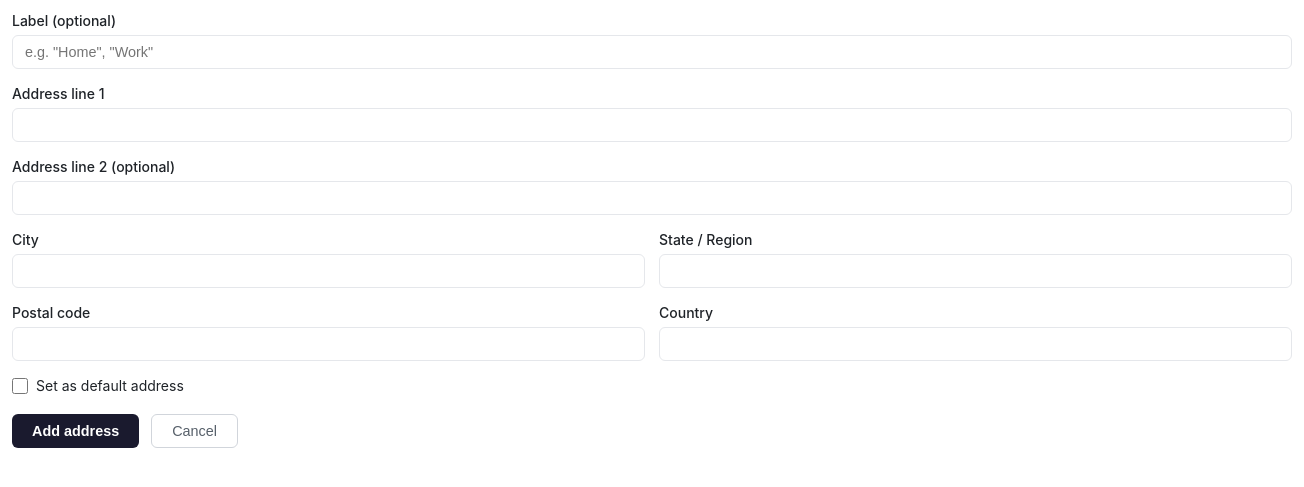
Test: AddressForm validation › shows error when postalCode is too short
The image size is (1304, 487).
In the field labelled "Address line 1": (652, 125) [12, 108, 1292, 142], type "123 Main St"
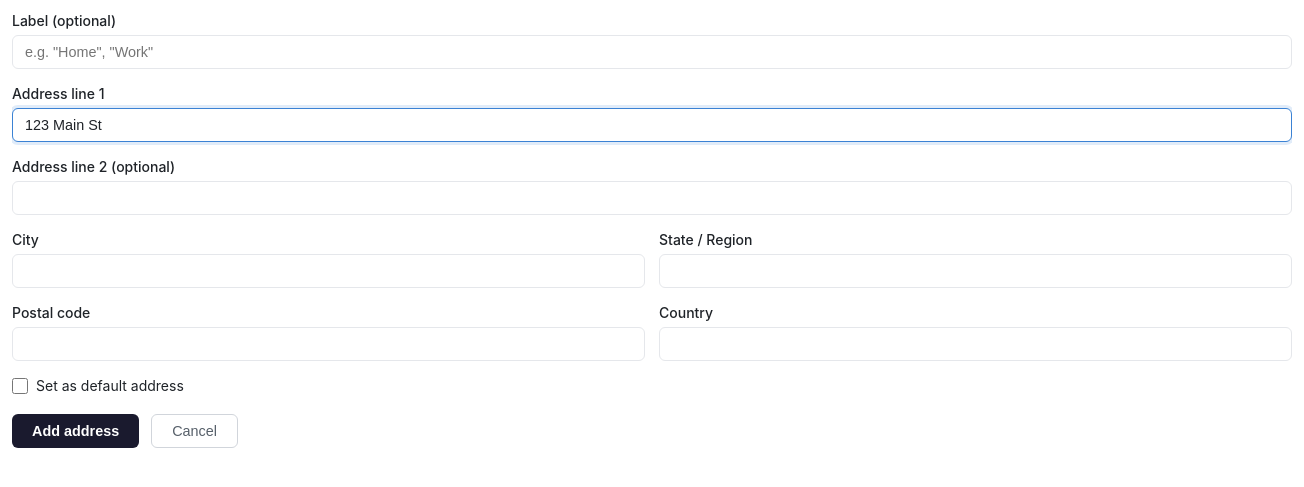
In the field labelled "City": (328, 271) [12, 254, 645, 288], type "Springfield"
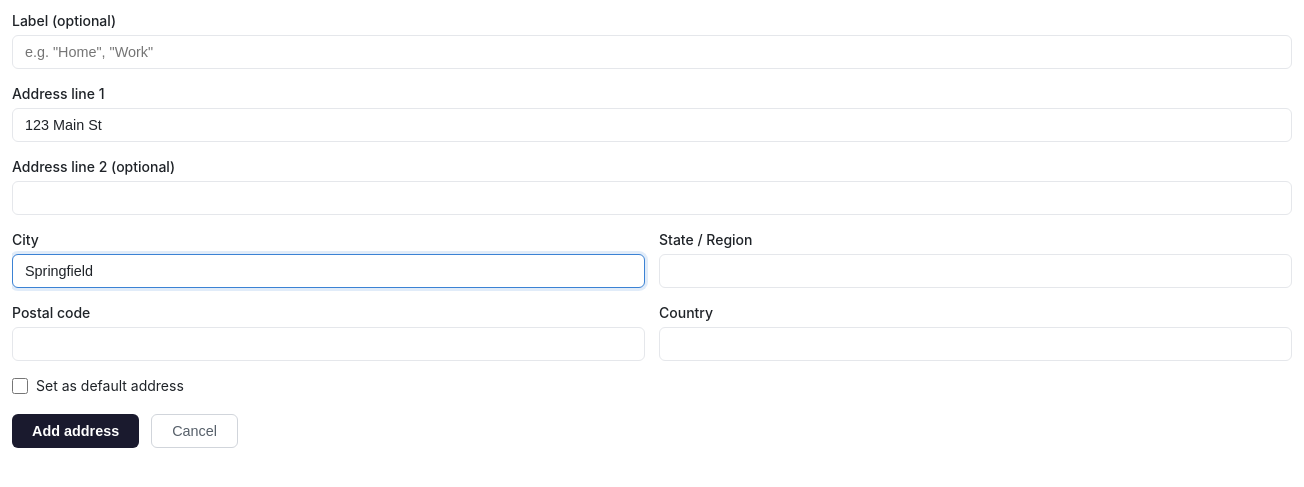
In the field labelled "State / Region": (976, 271) [659, 254, 1292, 288], type "IL"
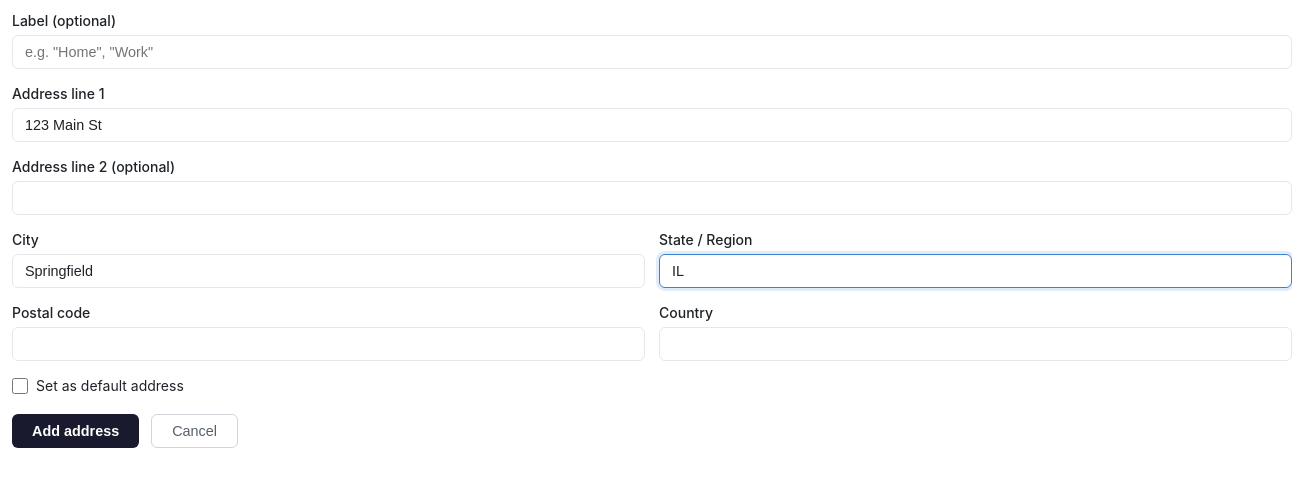
In the field labelled "Postal code": (328, 344) [12, 327, 645, 361], type "AB"
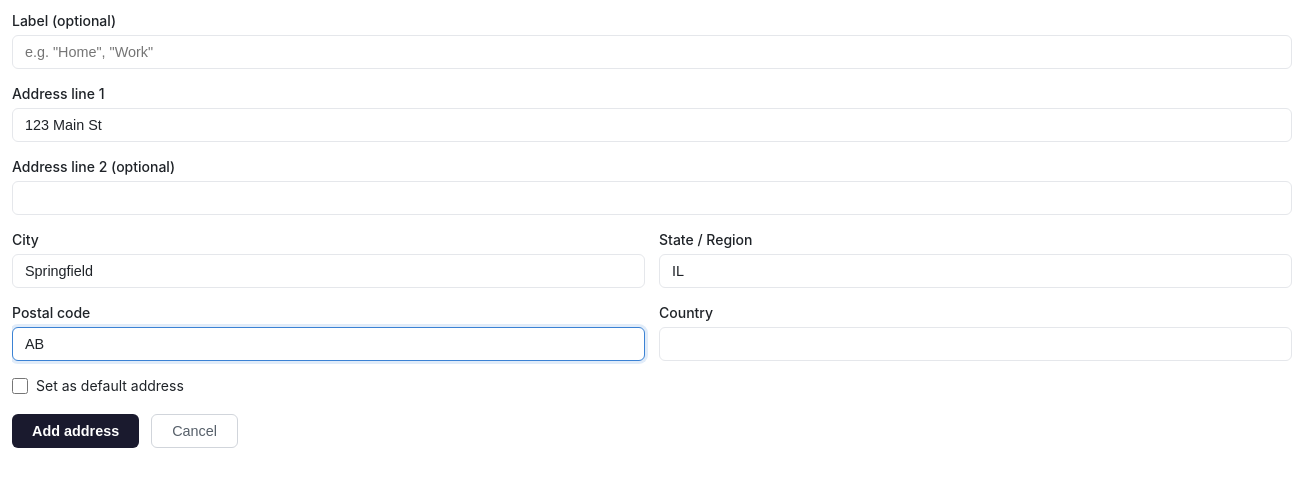
In the field labelled "Country": (976, 344) [659, 327, 1292, 361], type "USA"
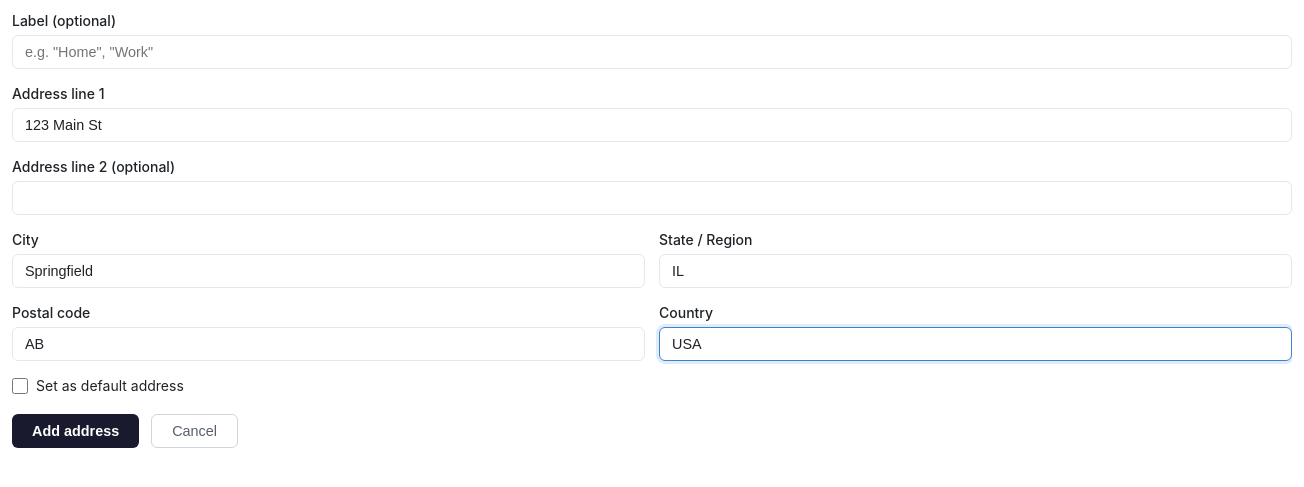
Click the button "Add address": click(76, 431) [12, 414, 139, 448]
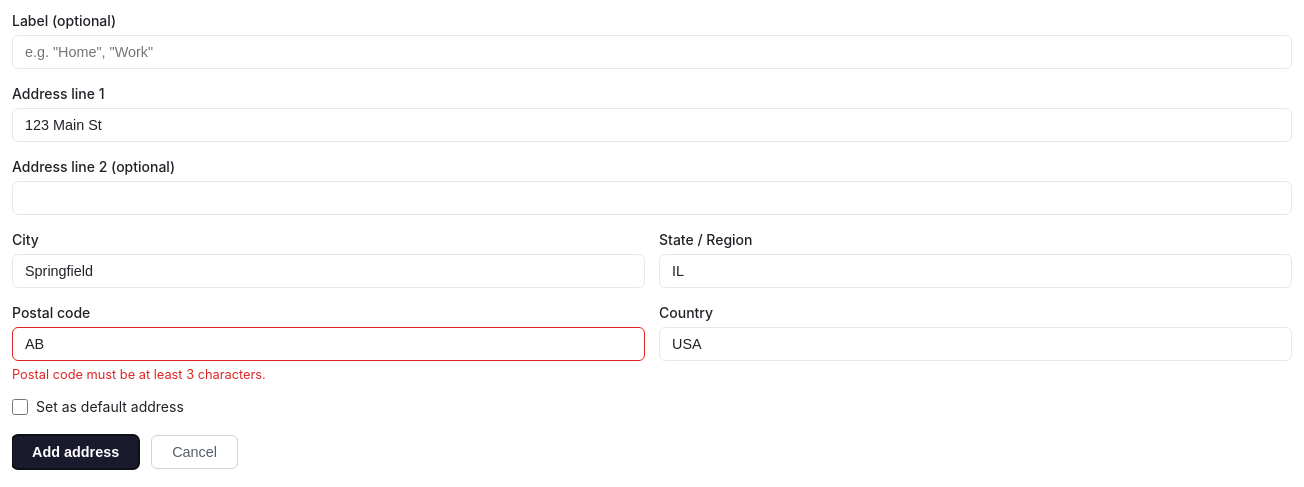
expect the text "Postal code must be at least 3 characters." is shown: met, box [12, 367, 266, 382]
